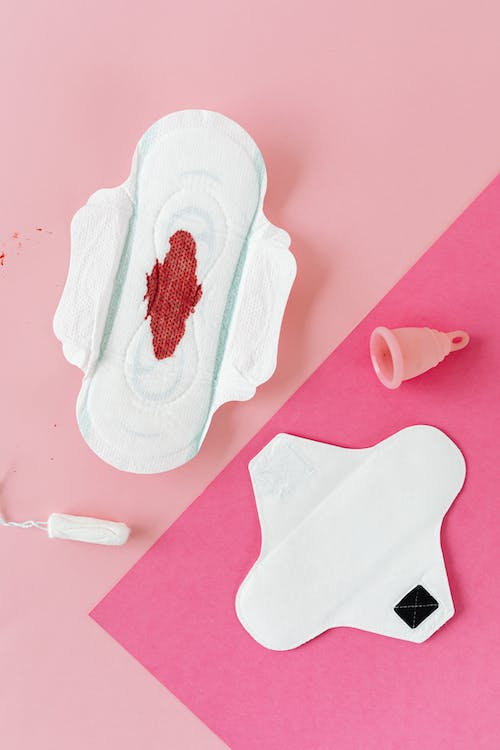blood: (140, 226, 204, 362)
